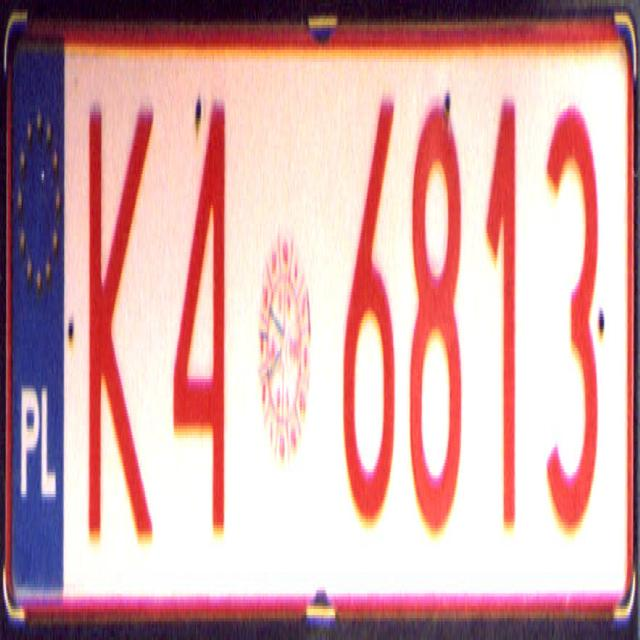pl_license_plate: (10, 37, 629, 609)
